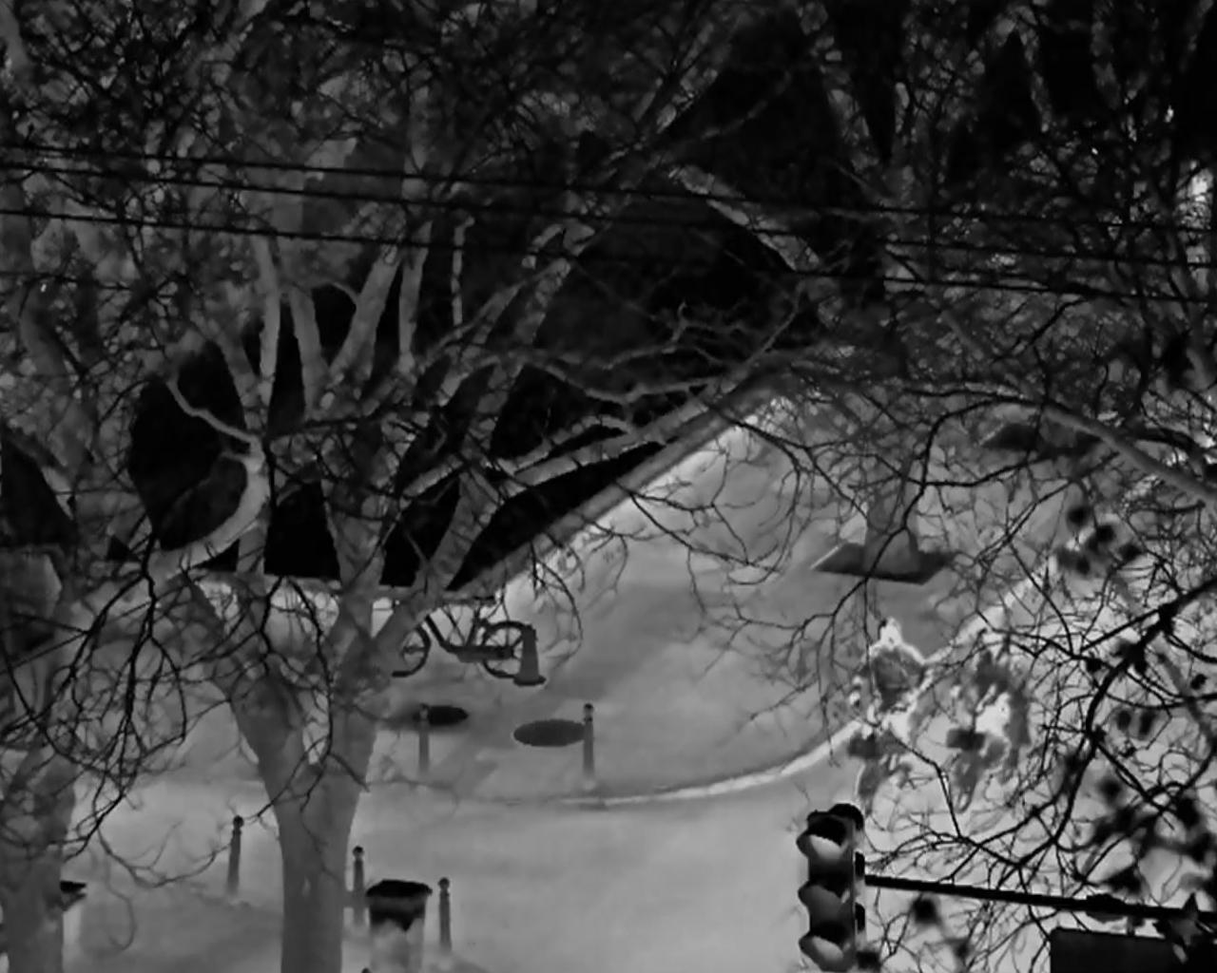person: (848, 616, 925, 771)
